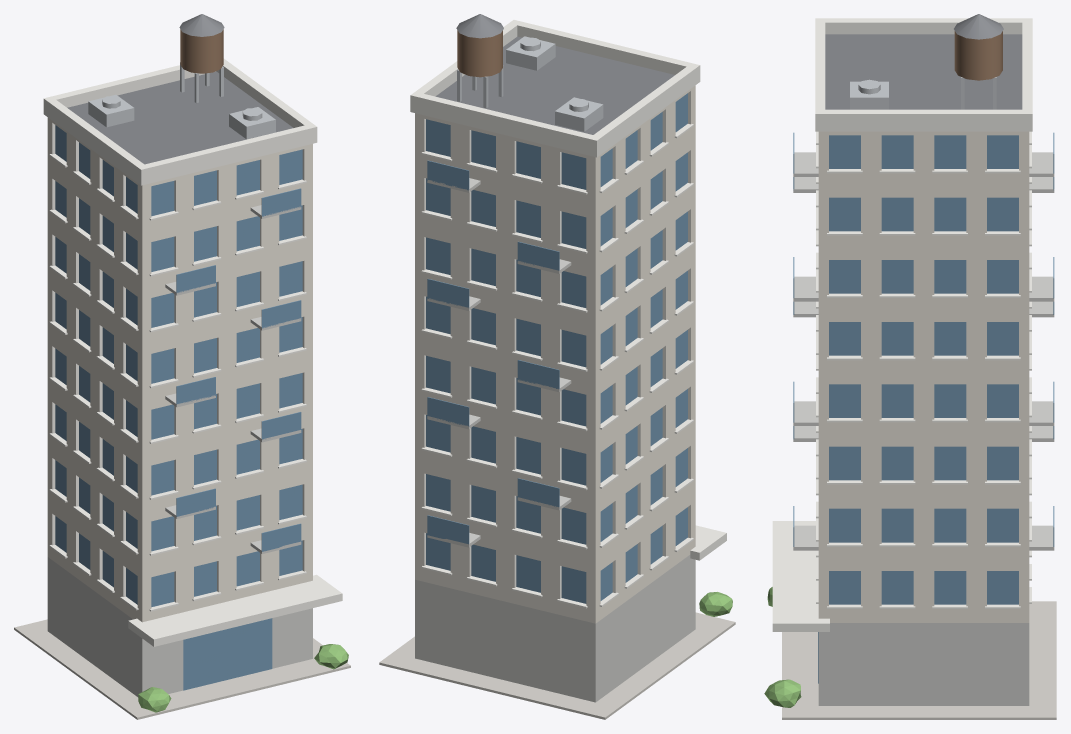
The picture shows the model from 3 angles, left to right: view 1: azimuth 30°, elevation 25°; view 2: azimuth 150°, elevation 25°; view 3: azimuth 270°, elevation 25°; orthographic projection. The views are drawn at different scales.
Visible parts, largest first — view 1: r_3_1_a; view 2: r_3_1_a; view 3: r_3_1_a.
Boxes of the visible parts, x1,y1,x2,y2 form: r_3_1_a: [14, 14, 350, 719]; r_3_1_a: [379, 14, 735, 719]; r_3_1_a: [764, 14, 1056, 719].
Size of the model in its own units: 12 by 32.42 by 12.77.
